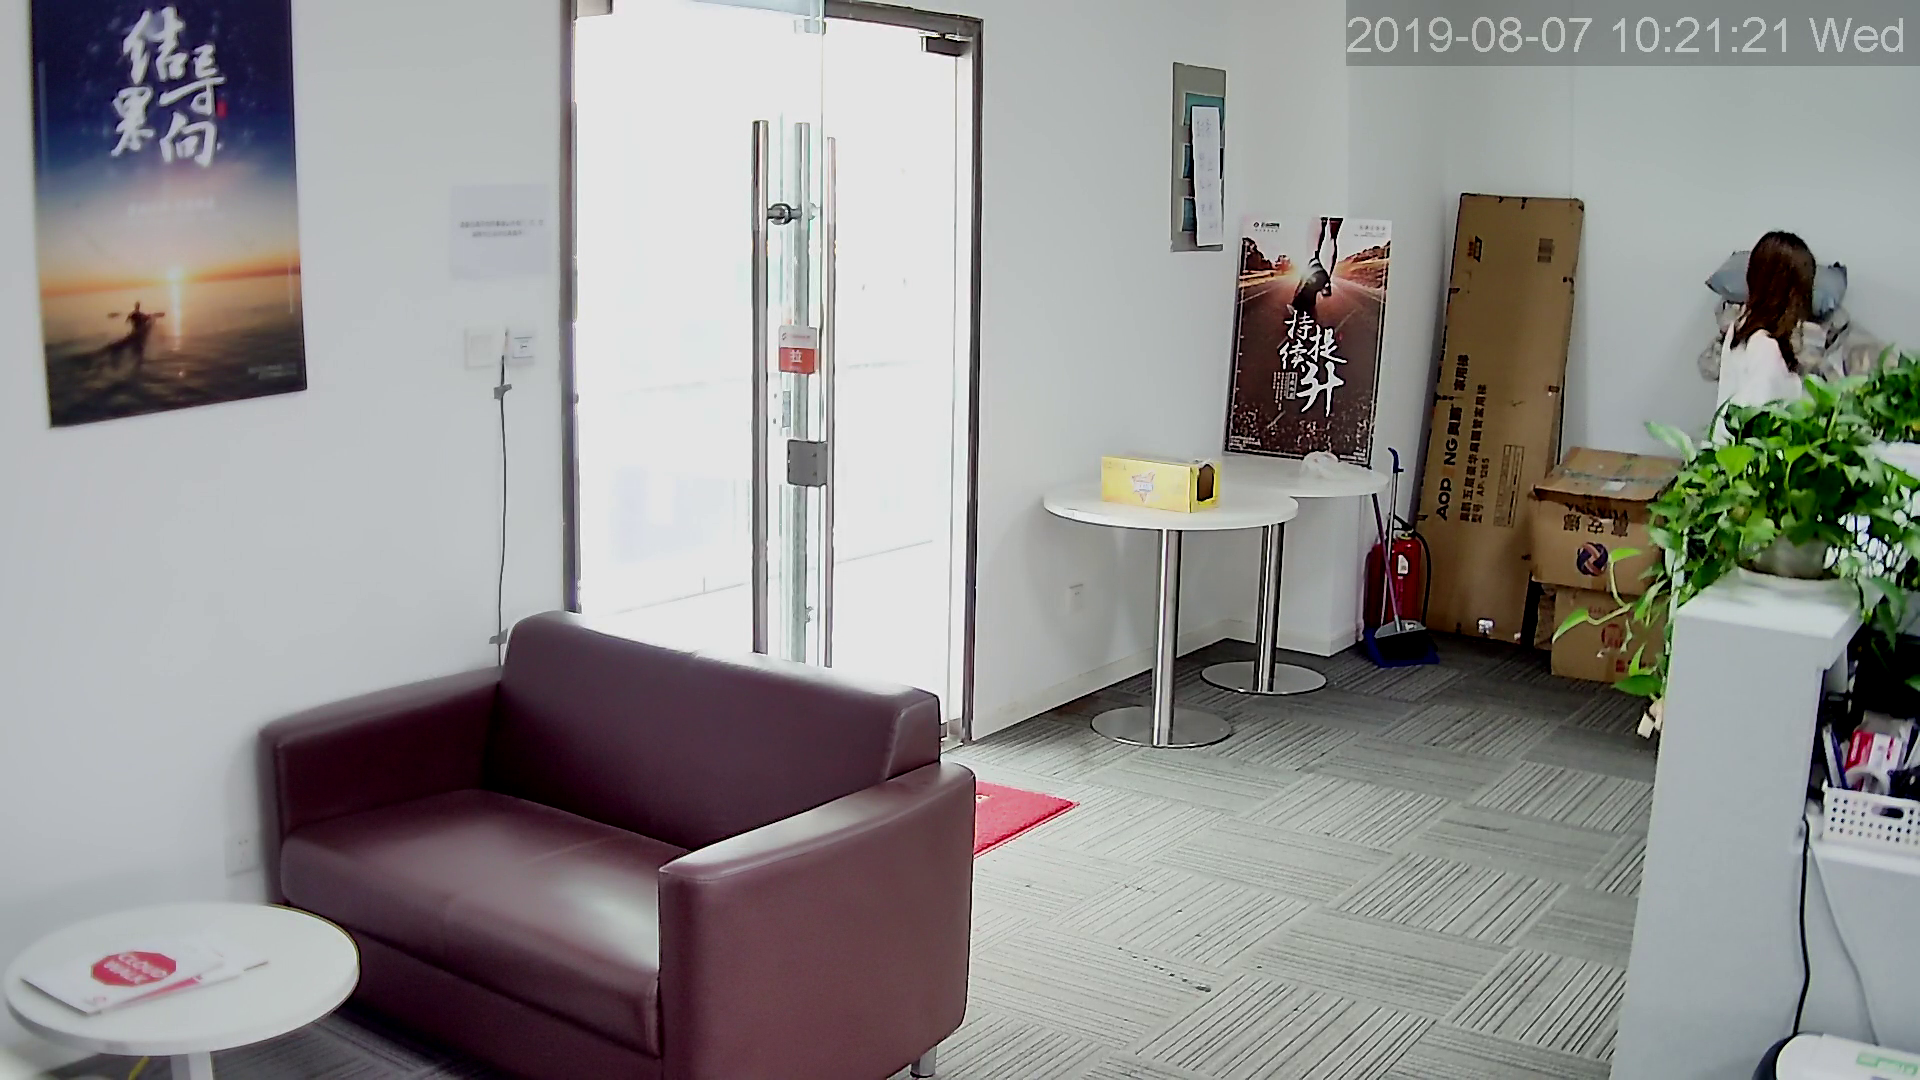bill: (29, 1, 311, 436), (1226, 216, 1393, 472)
